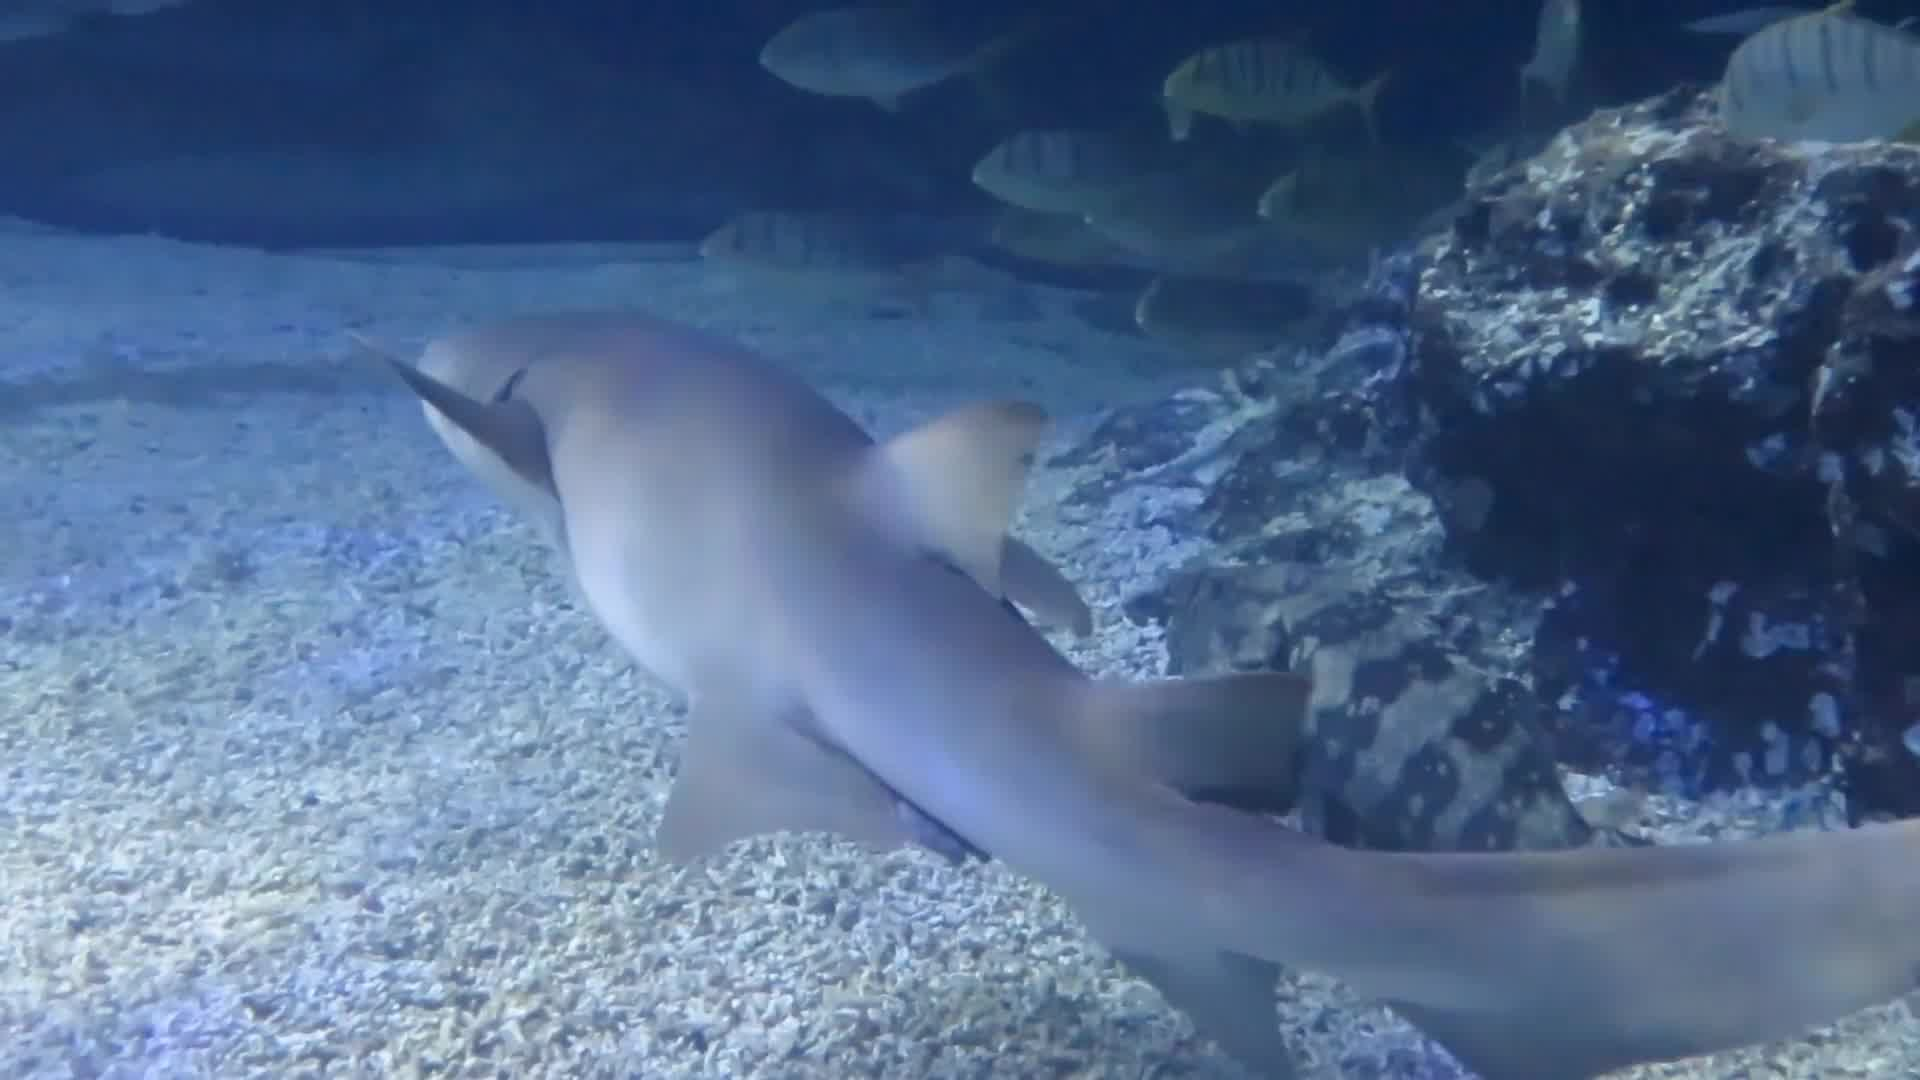Nebrius ferrugineus: (400, 310, 1865, 1080)
